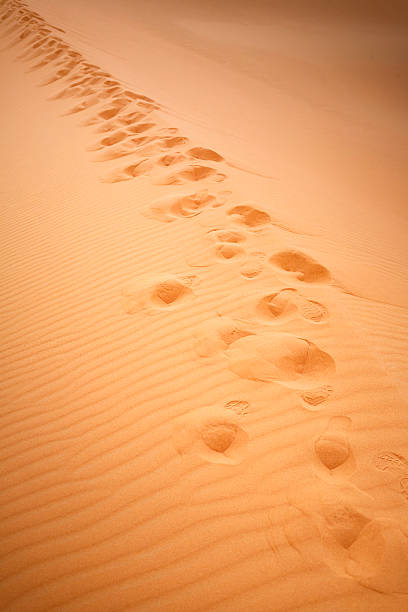human_foot_print: (288, 479, 407, 593), (194, 315, 335, 394), (226, 332, 335, 389), (173, 406, 248, 464), (186, 227, 265, 278), (122, 273, 198, 313), (141, 189, 229, 222), (193, 314, 255, 359), (255, 286, 327, 323), (313, 416, 355, 479), (269, 249, 330, 283), (373, 451, 407, 500), (156, 163, 226, 184), (226, 204, 271, 229), (95, 97, 145, 108), (126, 160, 150, 182), (101, 114, 144, 125), (96, 130, 144, 137)
